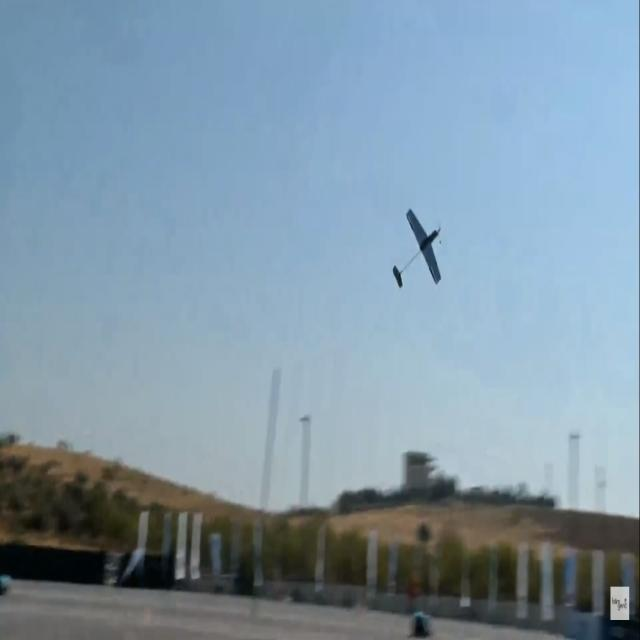iha: (392, 240, 443, 257)
